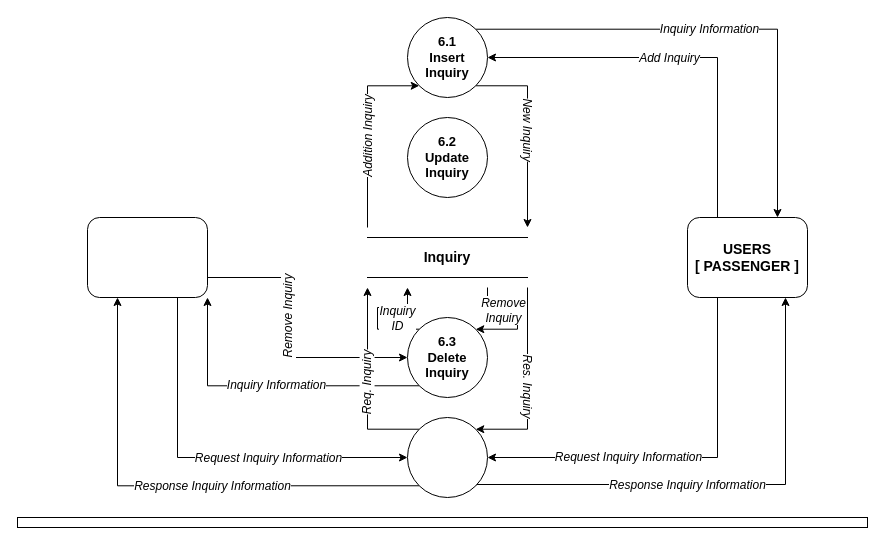
Image size: 885x545. Some labels were removed from this diagram. Each missing label, with the centre of its shape:
"6.4 View Inquiry" belongs at (x=447, y=457).
"ADMIN [ OWNER ]" belongs at (x=147, y=257).
